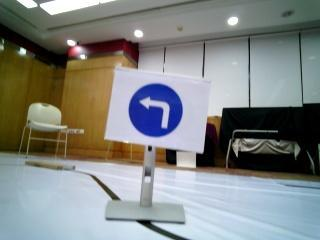left: (117, 71, 198, 149)
